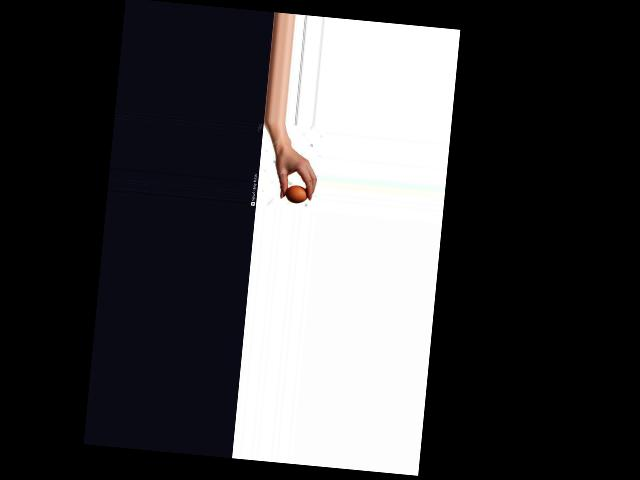egg: (284, 183, 308, 204)
